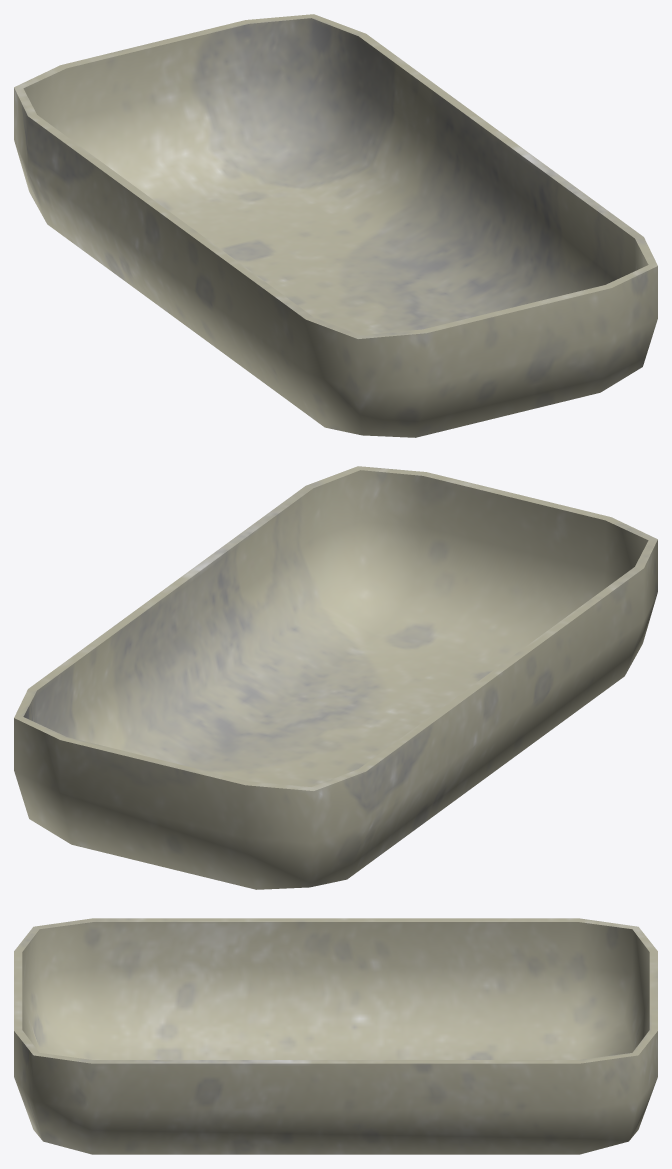
The model's file is SoapDish.fbx.
The picture shows the model from 3 angles, top to bottom: view 1: azimuth 30°, elevation 25°; view 2: azimuth 150°, elevation 25°; view 3: azimuth 270°, elevation 25°; orthographic projection. The views are drawn at different scales.
Parts seen in each view (by area): view 1: SoapDish; view 2: SoapDish; view 3: SoapDish.
Part boxes in pixels (x1,y1,x2,y2): SoapDish: (14, 14, 657, 437); SoapDish: (14, 466, 657, 889); SoapDish: (14, 918, 657, 1154).
Size of the model in its own units: 8 by 3 by 15.
